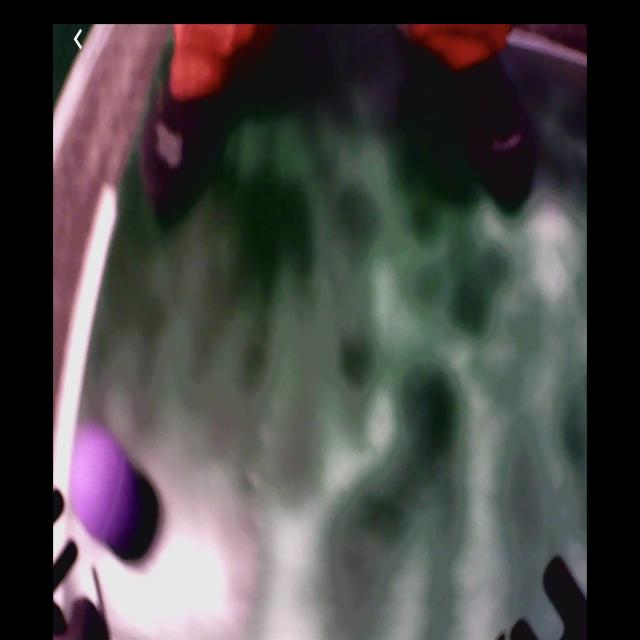ball: (69, 423, 132, 542)
